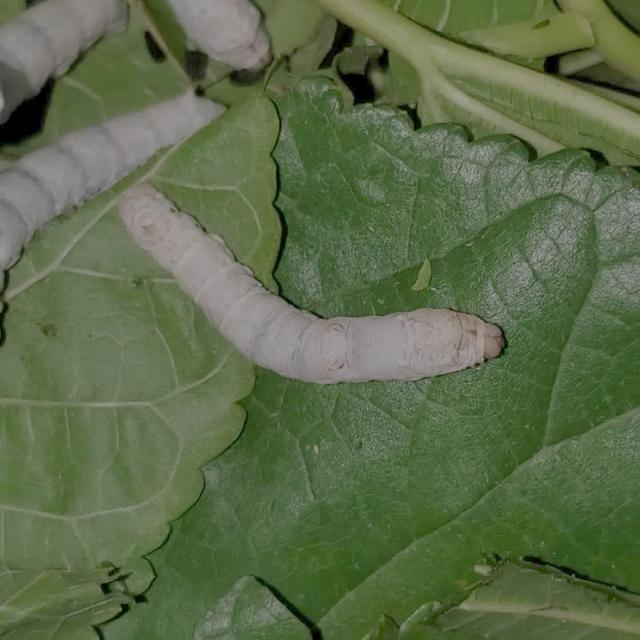Healthy: (112, 179, 508, 393)
